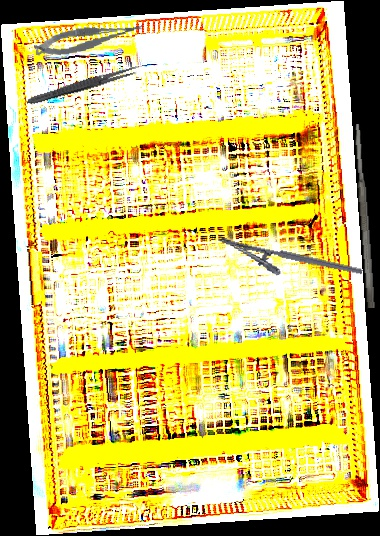Dressing Forceps: (25, 62, 142, 108)
Micro Scissor: (32, 20, 146, 59)
Needle Holder: (212, 234, 364, 295)
Spatula Surgical: (353, 123, 376, 309)
